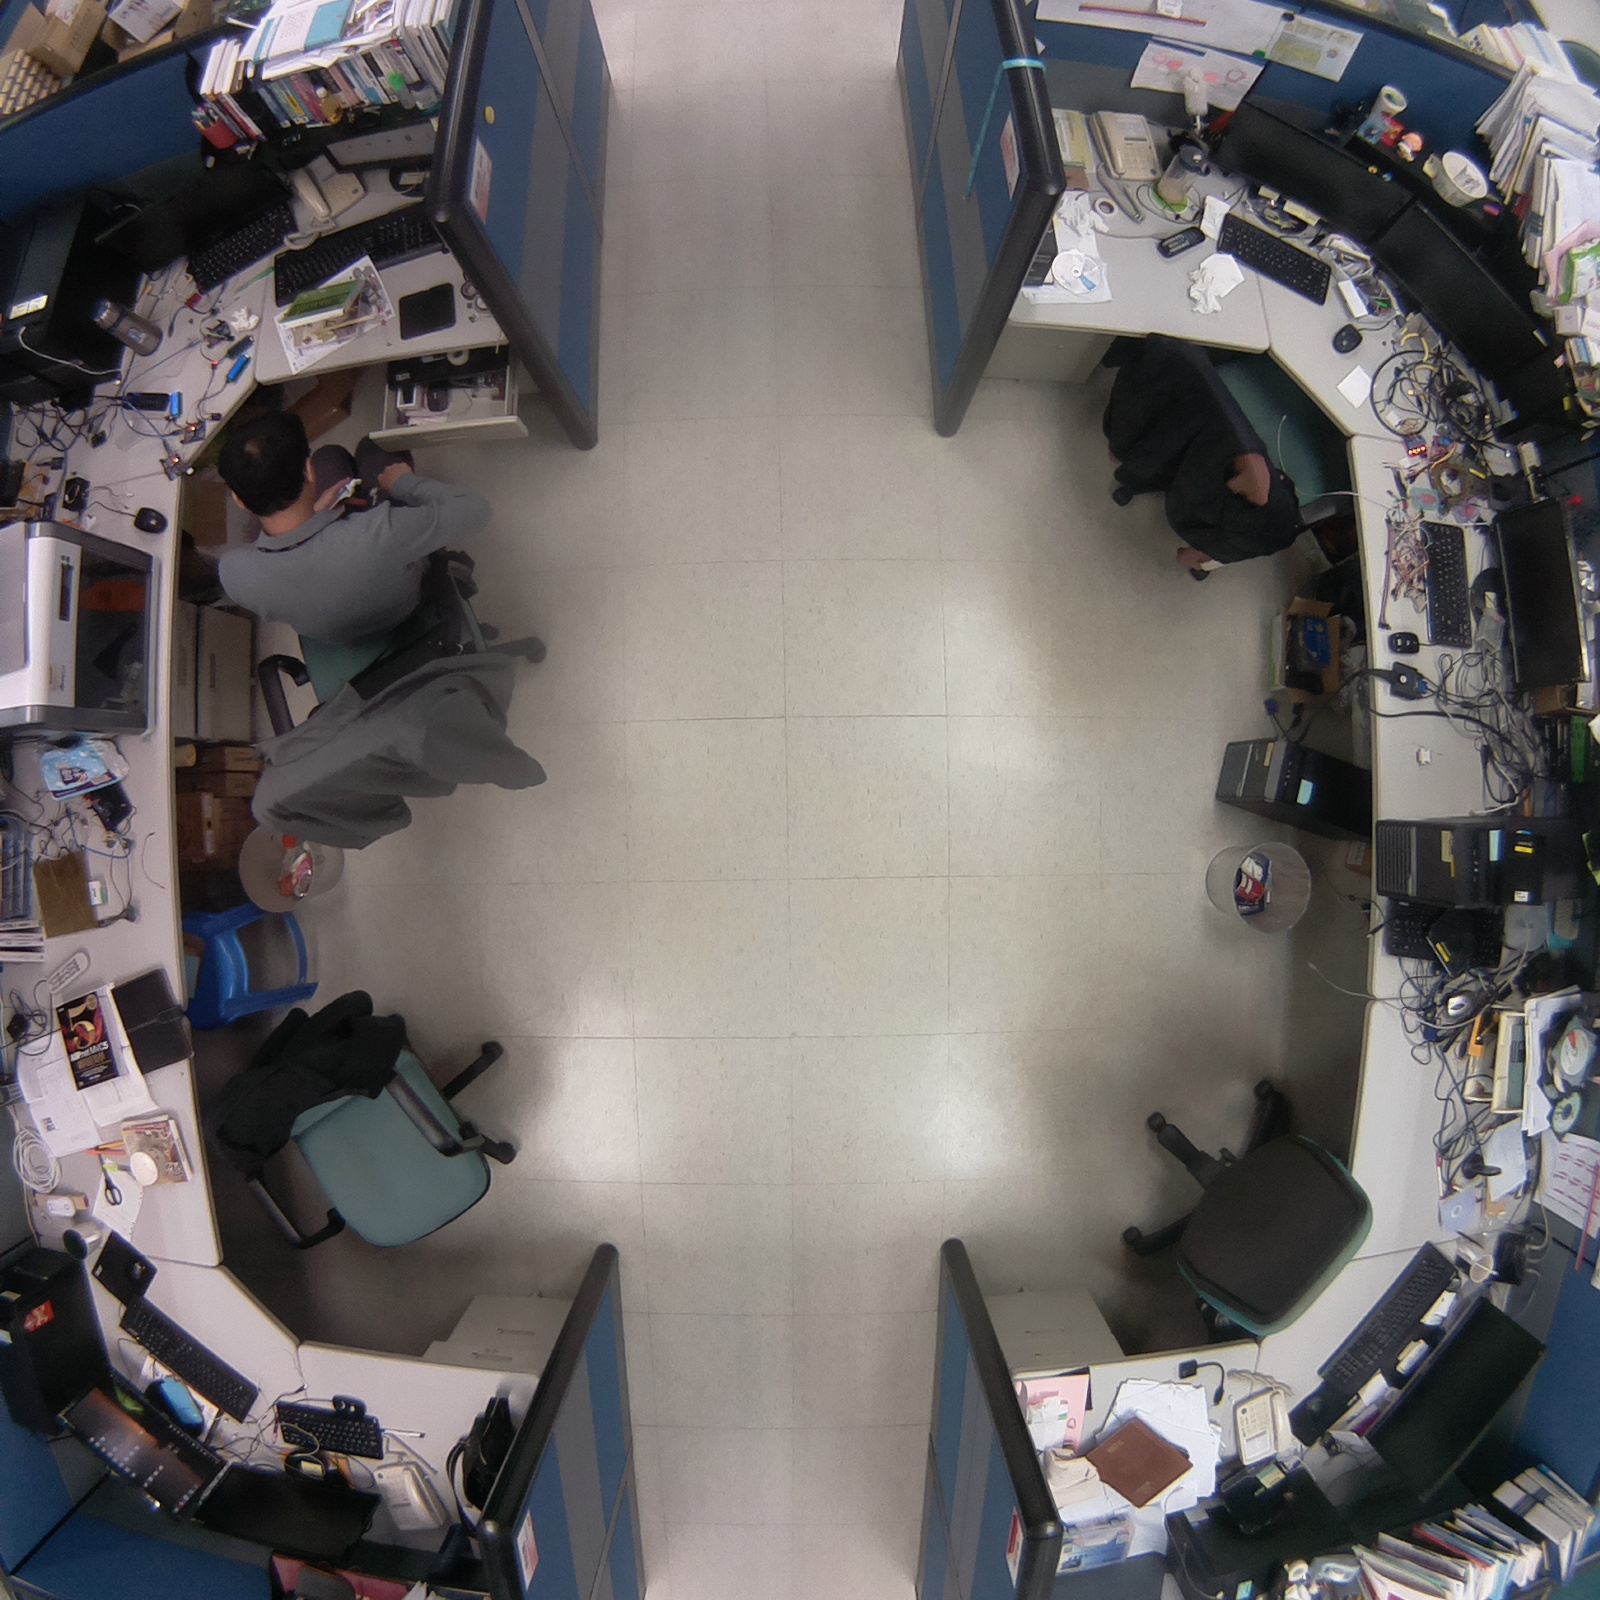chair: (174, 974, 552, 1267), (1100, 1051, 1389, 1360), (1089, 308, 1366, 585)
sitting: (196, 388, 503, 664)
